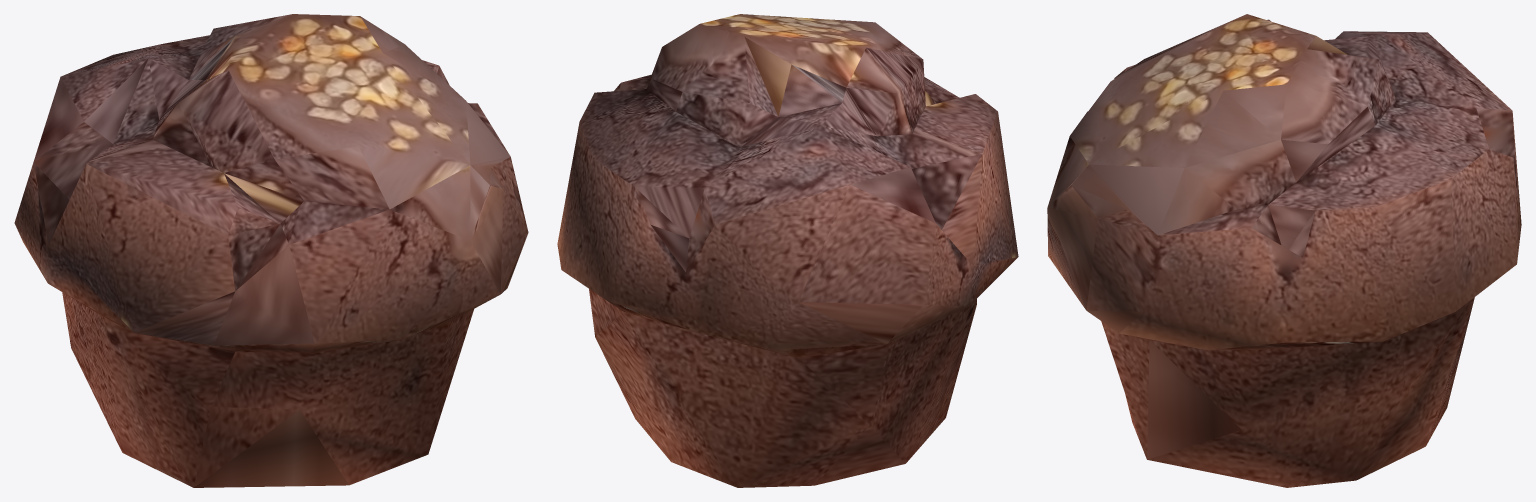
The model's file is muffin_196.obj.
3 renders of one model, left to right at view 1: azimuth 30°, elevation 25°; view 2: azimuth 150°, elevation 25°; view 3: azimuth 270°, elevation 25°, orthographic. The views are drawn at different scales.
Bounding box in the file's own units: 14.13 × 12.94 × 14.25.
1 material, 1 textured.
